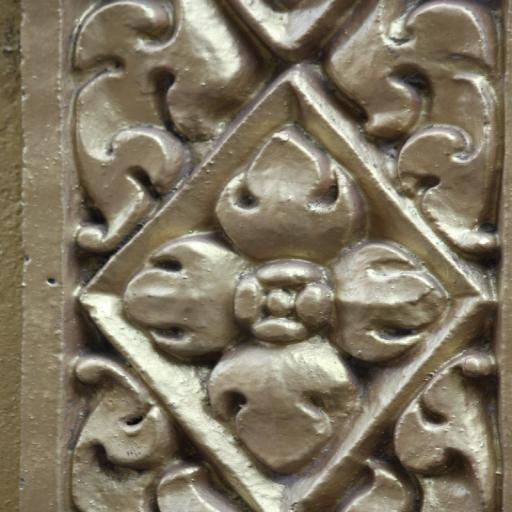hoa: (134, 143, 420, 453)
la: (51, 0, 225, 230), (346, 2, 512, 227), (50, 364, 209, 512), (360, 367, 512, 512)
